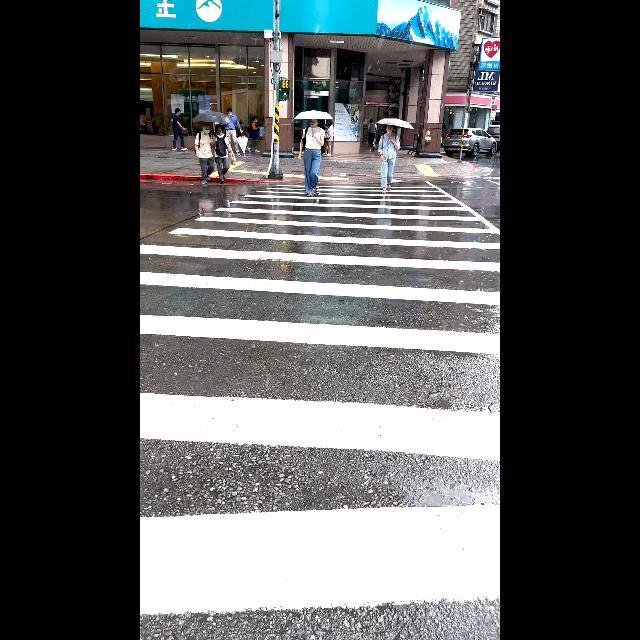sidewalk: (140, 183, 500, 615)
